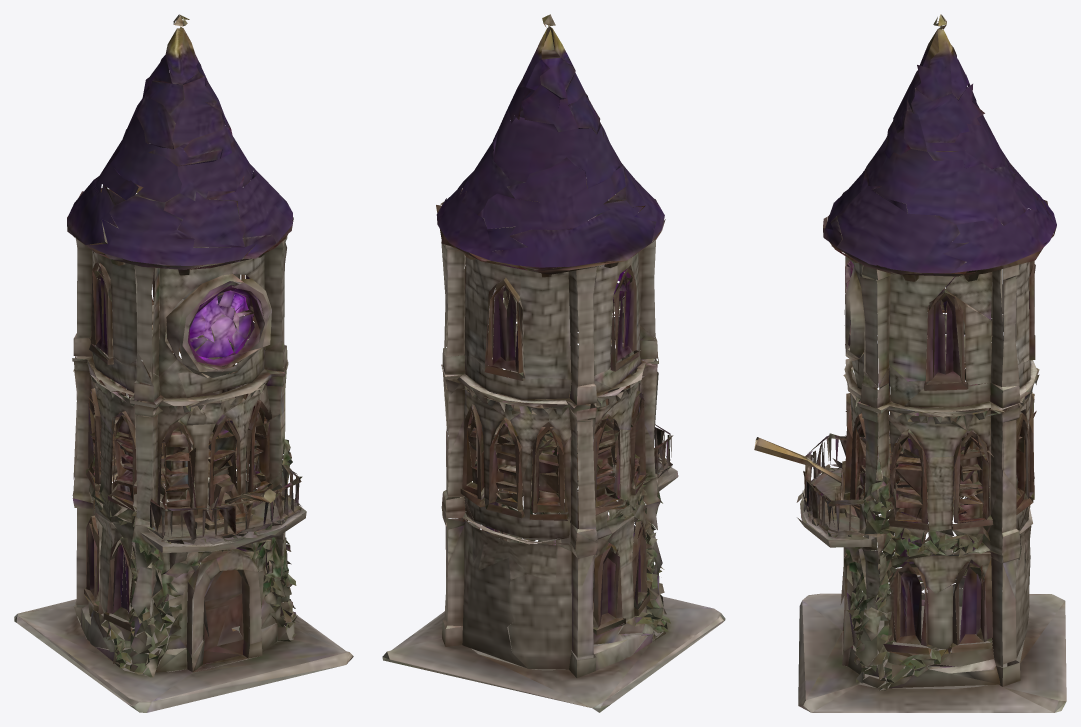
File: library.glb
3 views of the same model, side by side, from view 1: azimuth 30°, elevation 25°; view 2: azimuth 150°, elevation 25°; view 3: azimuth 270°, elevation 25° (orthographic). The views are drawn at different scales.
Visible parts, largest first — view 1: Mesh_0; view 2: Mesh_0; view 3: Mesh_0.
Boxes of the visible parts, x1,y1,x2,y2 form: Mesh_0: [14, 14, 353, 712]; Mesh_0: [382, 14, 725, 712]; Mesh_0: [754, 14, 1066, 712].
Size of the model in its own units: 0.7101 by 1.9 by 0.8356.
Materials: 1 (1 with a texture image).
